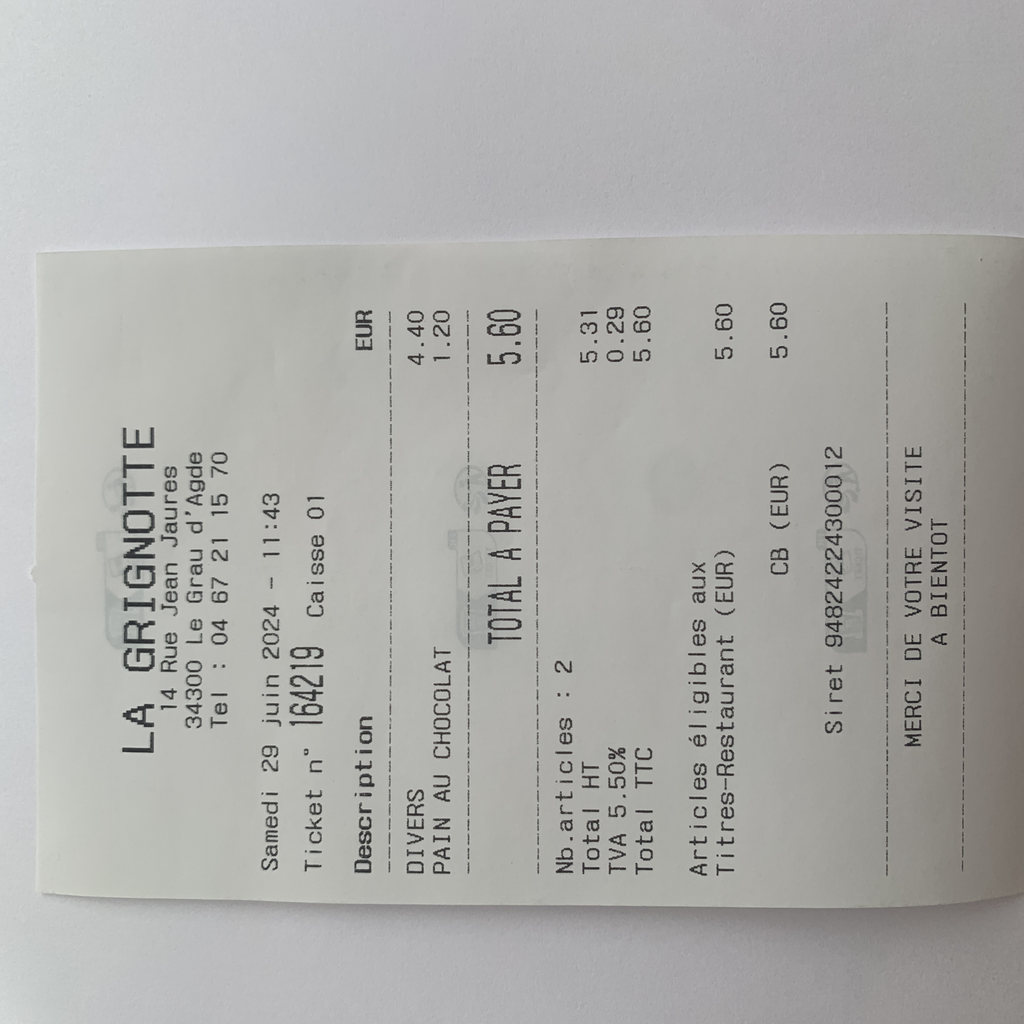recipt: (36, 237, 1022, 911)
